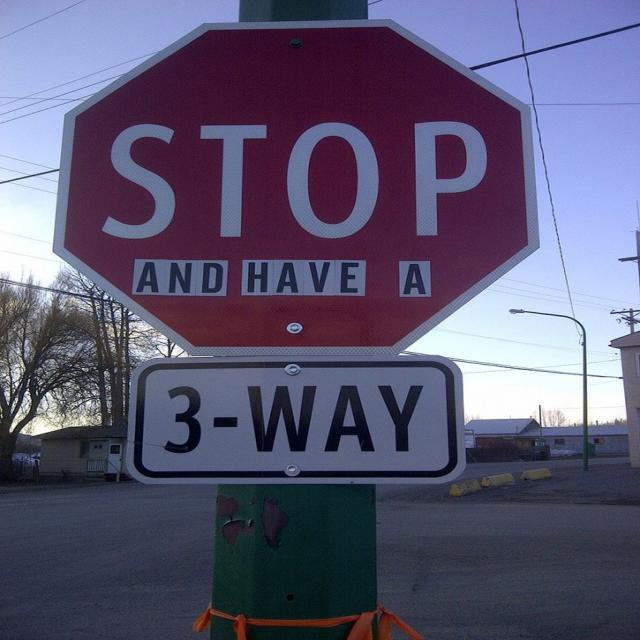stop-sign: (67, 44, 509, 341)
